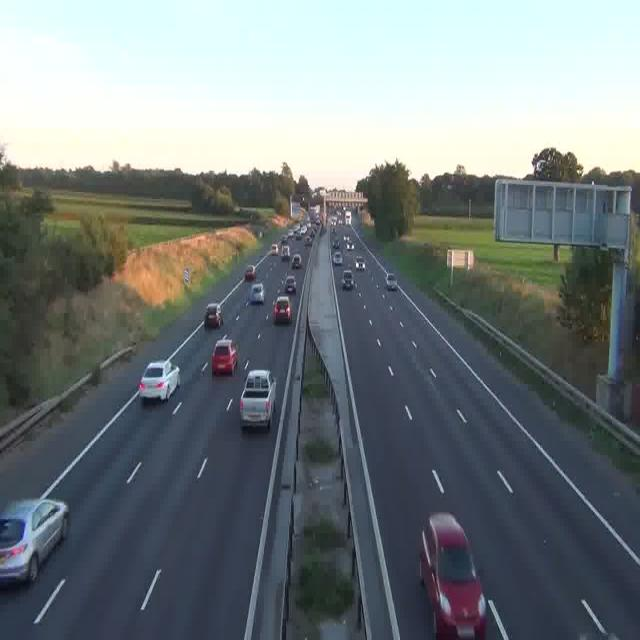car: (419, 514, 486, 640), (0, 498, 70, 583), (241, 369, 275, 430), (140, 361, 180, 403), (212, 337, 238, 374), (204, 302, 224, 329), (274, 296, 292, 324), (250, 282, 264, 303), (282, 277, 296, 296), (341, 270, 354, 289), (386, 273, 398, 291), (244, 265, 256, 281), (290, 254, 302, 268), (333, 252, 343, 266), (356, 258, 366, 272), (282, 246, 290, 262), (268, 242, 278, 253), (332, 237, 340, 250)
